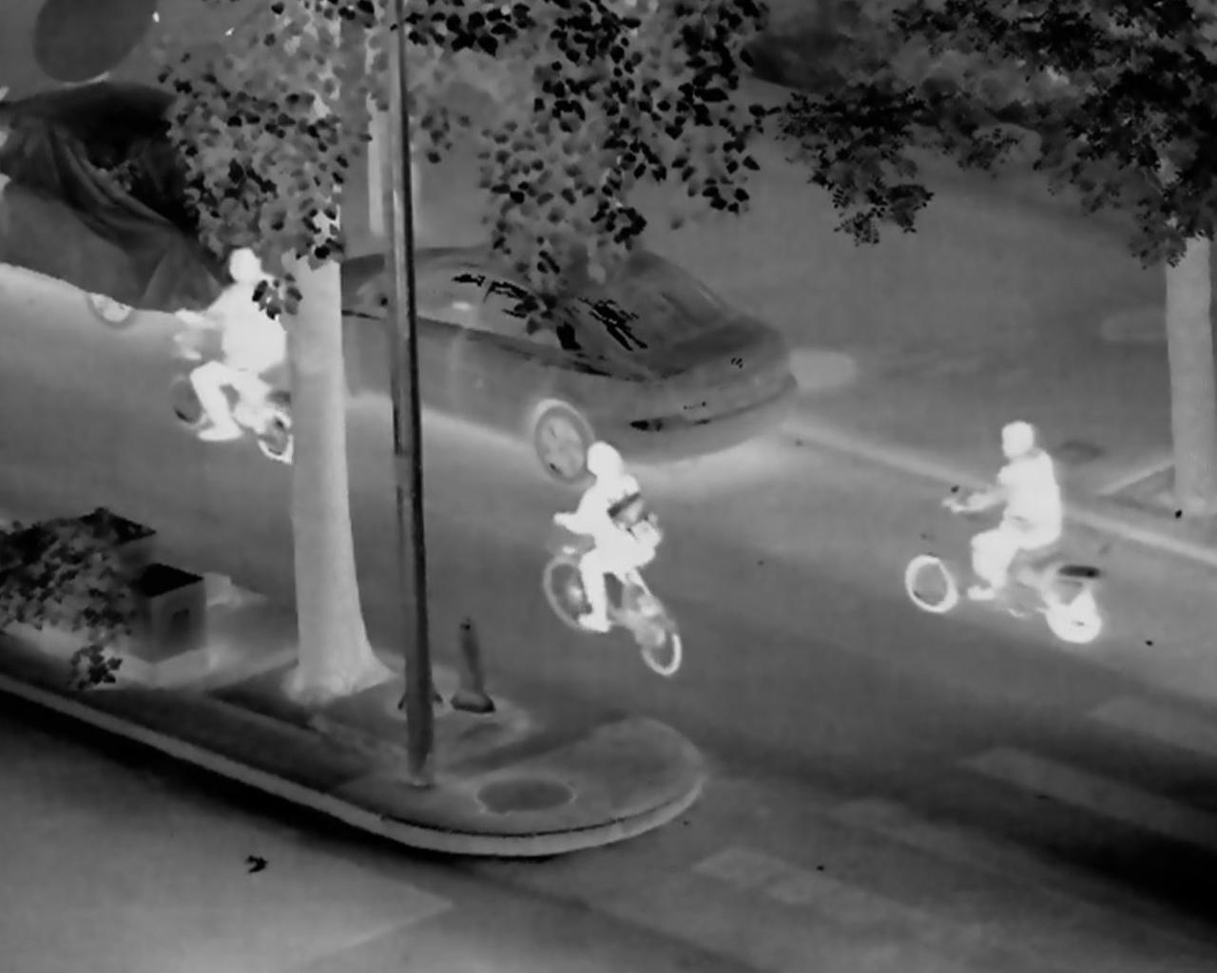person: (940, 422, 1063, 604), (549, 440, 662, 635), (181, 249, 287, 444)
